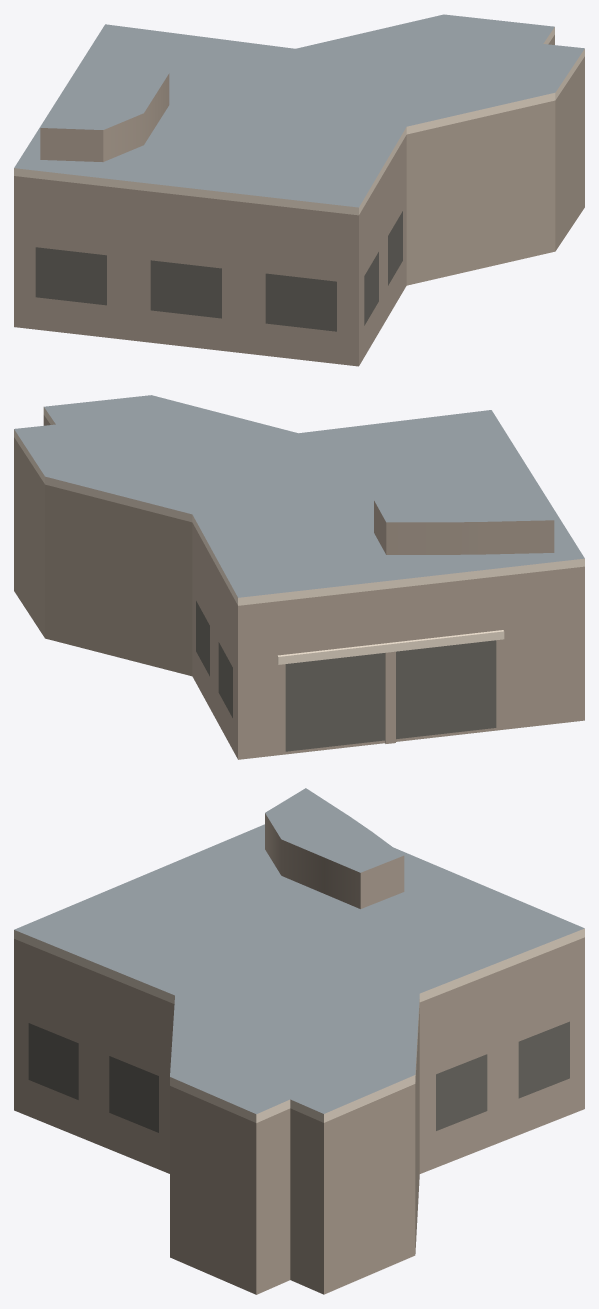
Rendered from dc-au-centennial-garage.glb.
The picture shows the model from 3 angles, top to bottom: view 1: azimuth 30°, elevation 25°; view 2: azimuth 150°, elevation 25°; view 3: azimuth 270°, elevation 25°; orthographic projection. The views are drawn at different scales.
Visible parts, largest first — view 1: Centennial Hall Garage; view 2: Centennial Hall Garage; view 3: Centennial Hall Garage.
Part boxes in pixels (x1,y1,x2,y2): Centennial Hall Garage: (14, 14, 584, 366); Centennial Hall Garage: (14, 395, 584, 759); Centennial Hall Garage: (14, 788, 584, 1294).
Size of the model in its own units: 26.48 by 8.77 by 20.91.
